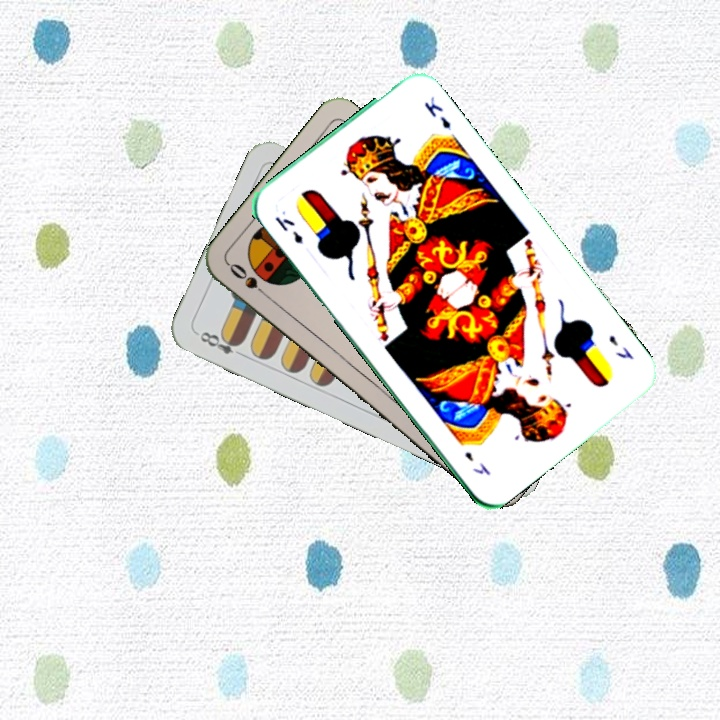E8: (196, 327, 248, 360)
EK: (271, 212, 306, 247), (605, 331, 636, 363)
SO: (225, 259, 274, 303)
